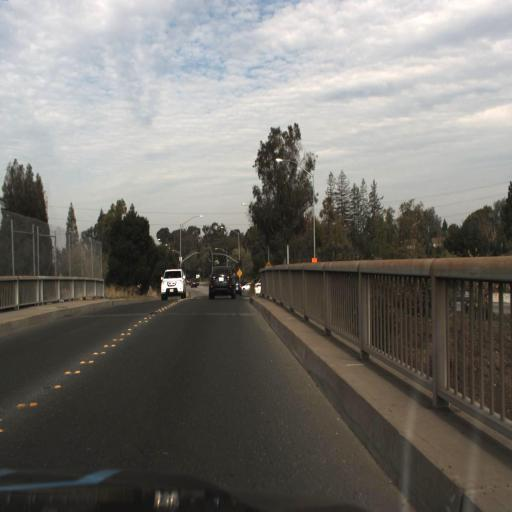car: (156, 256, 191, 305), (206, 266, 238, 306), (161, 267, 187, 297)
